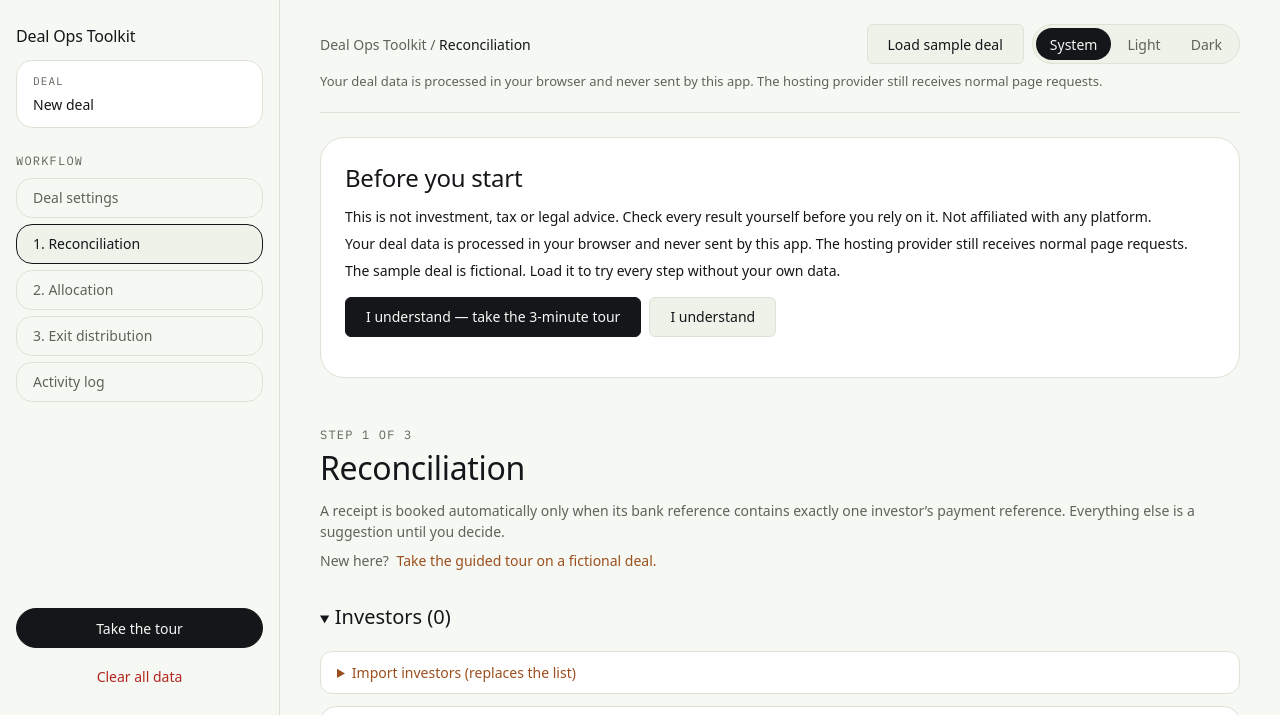
it: M2 interface › TC-X-01 a term in the interface expands to its explanation
Click the tab "Deal settings": click(140, 198) [16, 178, 263, 218]
(page scrolled)
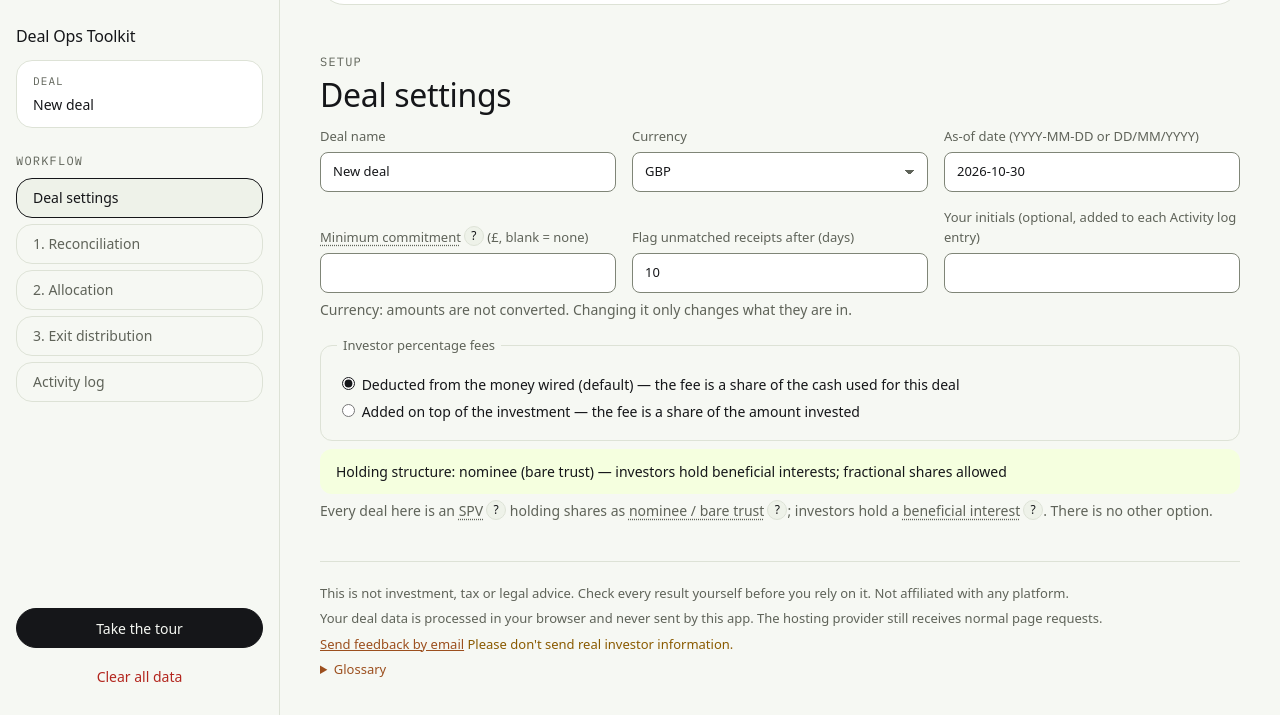
Click the button named "What is SPV?": click(496, 510) [486, 500, 506, 520]
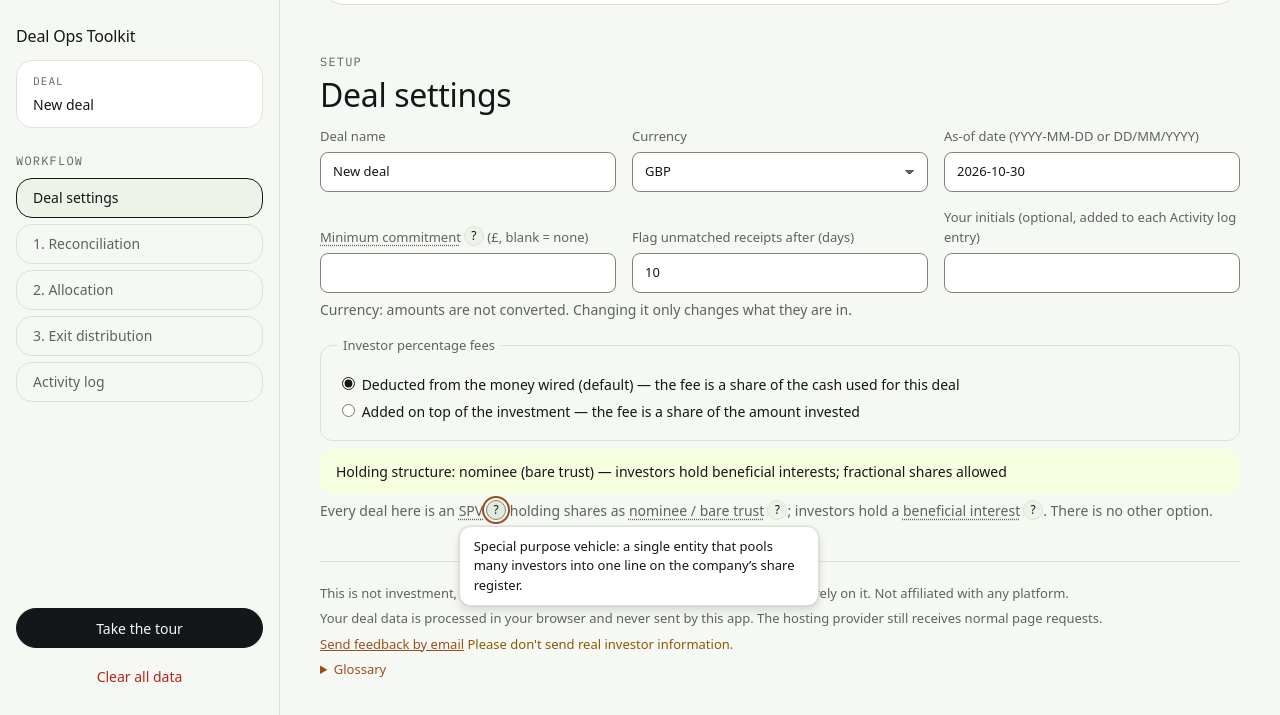
Expected: the text "Special purpose vehicle" is shown, [474, 536, 795, 594]
